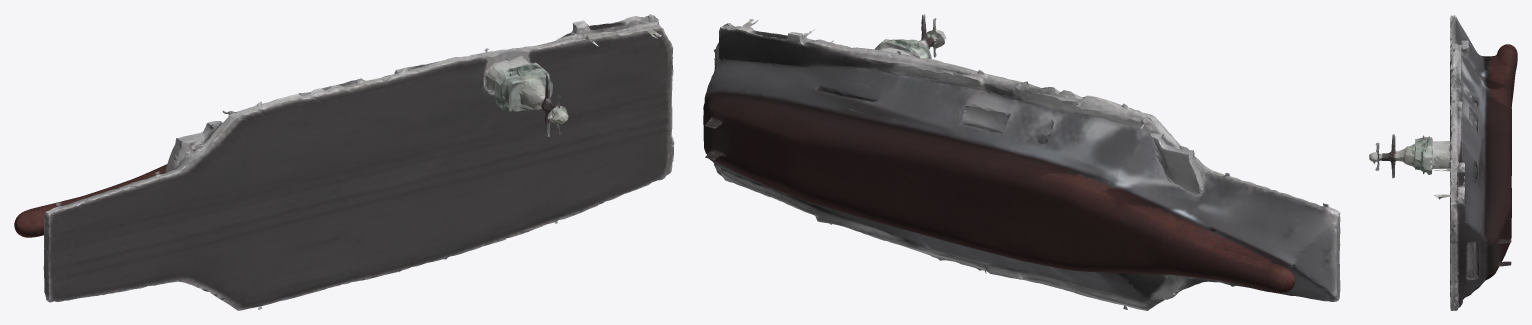
Rendered from Gerald_R_Ford_Class_Carrier_AI_Rodin.glb.
3 views of the same model, side by side, from view 1: azimuth 30°, elevation 25°; view 2: azimuth 150°, elevation 25°; view 3: azimuth 270°, elevation 25° (orthographic). The views are drawn at different scales.
Parts seen in each view (by area): view 1: Gerald_R_Ford_Class_Carrier; view 2: Gerald_R_Ford_Class_Carrier; view 3: Gerald_R_Ford_Class_Carrier.
Part boxes in pixels (bbox=[...]): Gerald_R_Ford_Class_Carrier: bbox=[14, 14, 674, 310]; Gerald_R_Ford_Class_Carrier: bbox=[703, 14, 1340, 310]; Gerald_R_Ford_Class_Carrier: bbox=[1369, 15, 1517, 310].
Size of the model in its own units: 1.9 by 0.5976 by 0.5451.
1 material, 1 textured.
